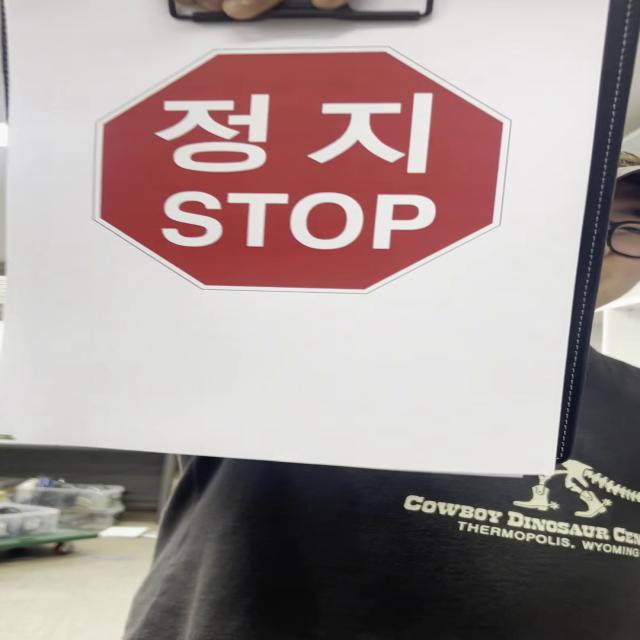stop: (98, 50, 508, 293)
